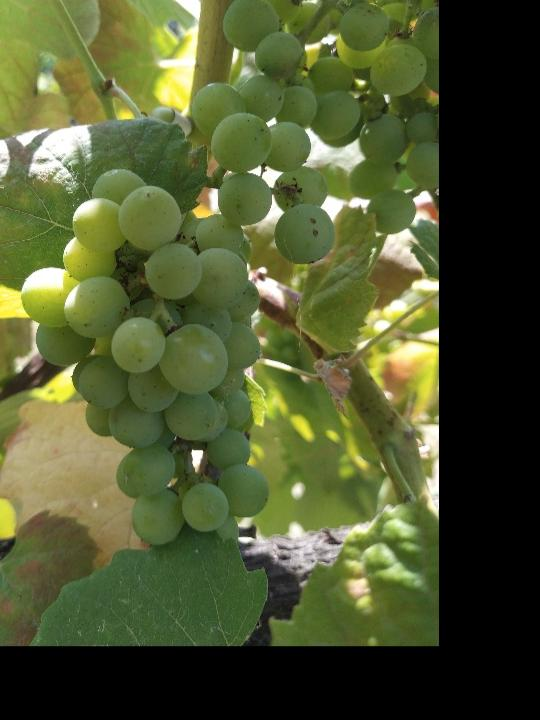grape: (17, 164, 270, 552), (188, 0, 432, 266)
